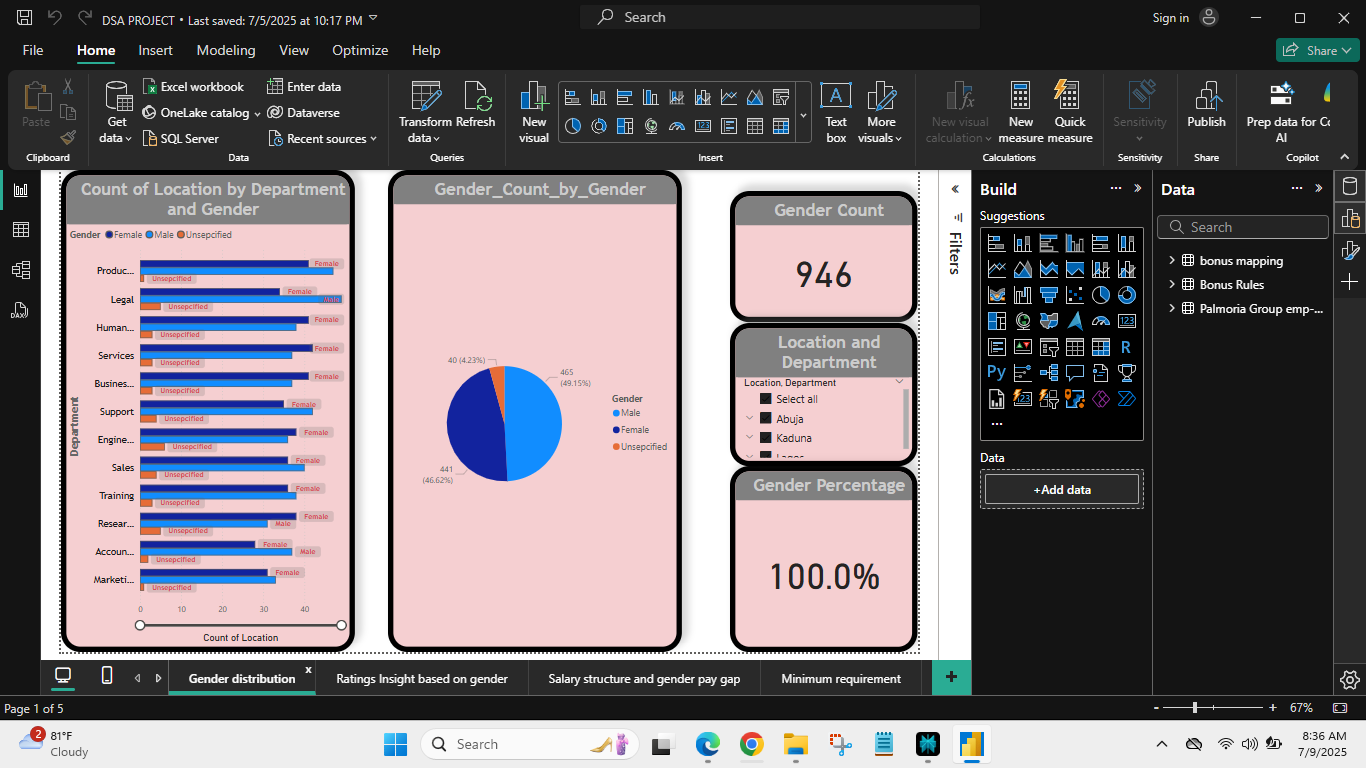

The page's visual inventory and layout, read from the dashboard file:
{"tool":"powerbi","page":{"name":"Gender distribution","canvas":[1280,720],"ordinal":0},"visuals":[{"type":"card","title":"Gender Count","fields":{"Values":["Palmoria Group emp-data.Gender_Count"]},"box":[1000,32,280,196],"z":0},{"type":"card","title":"Gender Percentage","fields":{"Values":["Palmoria Group emp-data.Gender_Percentage"]},"box":[999.7,441.5,280.3,278],"z":1000},{"type":"clusteredBarChart","title":"Count of Location by Department and Gender","fields":{"Category":["Palmoria Group emp-data.Department"],"Series":["Palmoria Group emp-data.Gender_New"],"Y":["CountNonNull(Palmoria Group emp-data.Location)"]},"box":[0,0,439.1,720.1],"z":2000},{"type":"slicer","title":"Location and Department","fields":{"Values":["Palmoria Group emp-data.Location","Palmoria Group emp-data.Department"]},"box":[1000,228,280,214],"z":3000},{"type":"pieChart","title":"Gender_Count_by_Gender","fields":{"Category":["Palmoria Group emp-data.Gender_New"],"Y":["Palmoria Group emp-data.Gender_Count"]},"box":[488.8,0,438.8,720],"z":4000}]}

Visuals, with their boxes on the page's 1280x720 design canvas (x1, y1, x2, y2). These are canvas units, not pixel positions in the 1366x768 screenshot, which may show the page scaled, cropped or inside an application window:
"Gender Count" card: locate(1000, 32, 1280, 228)
"Gender Percentage" card: locate(1000, 442, 1280, 720)
"Count of Location by Department and Gender" clusteredBarChart: locate(0, 0, 439, 720)
"Location and Department" slicer: locate(1000, 228, 1280, 442)
"Gender_Count_by_Gender" pieChart: locate(489, 0, 928, 720)
